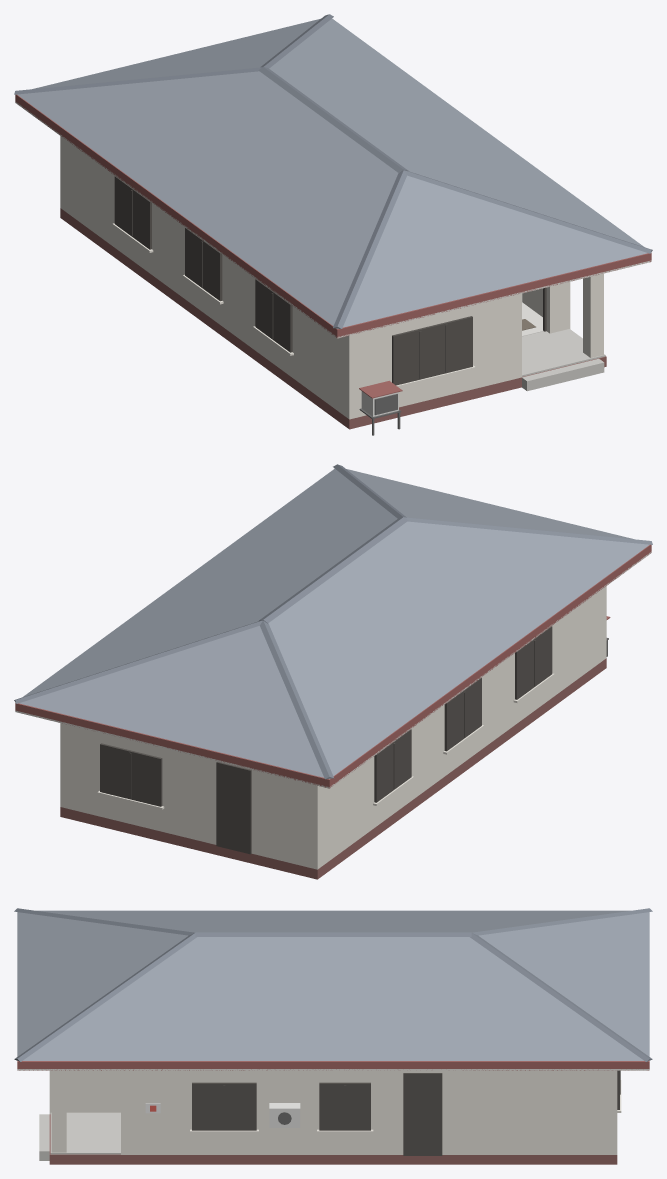
The model's file is f2c2_building.glb.
3 views of the same model, one above another, from view 1: azimuth 30°, elevation 25°; view 2: azimuth 150°, elevation 25°; view 3: azimuth 270°, elevation 25° (orthographic).
Parts seen in each view (by area): view 1: F2C2_Roof_Surface, Mesh_F2C2_WallCream, Mesh_F2C2_FrameBronze, Mesh_F2C2_FasciaMaroon, Mesh_F2C2_RoofRidge, Mesh_F2C2_PlinthMaroon, Mesh_F2C2_StoopConcrete, F2C2_Soffit_Main, Mesh_F2C2_BracketDark; view 2: F2C2_Roof_Surface, Mesh_F2C2_WallCream, Mesh_F2C2_FrameBronze, Mesh_F2C2_RoofRidge, Mesh_F2C2_FasciaMaroon, Mesh_F2C2_PlinthMaroon, F2C2_Soffit_Main; view 3: F2C2_Roof_Surface, Mesh_F2C2_WallCream, Mesh_F2C2_FrameBronze, Mesh_F2C2_RoofRidge, Mesh_F2C2_PlinthMaroon, Mesh_F2C2_FasciaMaroon, Mesh_F2C2_StoopConcrete, F2C2_Soffit_Main, Mesh_F2C2_ACMetal.
Boxes of the visible parts, <box> form: F2C2_Roof_Surface: <box>17,18,647,328</box>; Mesh_F2C2_WallCream: <box>60,136,603,419</box>; Mesh_F2C2_FrameBronze: <box>114,176,546,385</box>; Mesh_F2C2_FasciaMaroon: <box>15,94,651,398</box>; Mesh_F2C2_RoofRidge: <box>14,14,652,328</box>; Mesh_F2C2_PlinthMaroon: <box>60,208,606,429</box>; Mesh_F2C2_StoopConcrete: <box>522,329,605,391</box>; F2C2_Soffit_Main: <box>15,102,651,338</box>; Mesh_F2C2_BracketDark: <box>359,394,401,435</box>; F2C2_Roof_Surface: <box>19,468,649,778</box>; Mesh_F2C2_WallCream: <box>60,586,606,869</box>; Mesh_F2C2_FrameBronze: <box>100,626,552,854</box>; Mesh_F2C2_RoofRidge: <box>14,464,652,779</box>; Mesh_F2C2_FasciaMaroon: <box>15,544,651,788</box>; Mesh_F2C2_PlinthMaroon: <box>60,658,606,879</box>; F2C2_Soffit_Main: <box>15,551,651,788</box>; F2C2_Roof_Surface: <box>17,910,649,1060</box>; Mesh_F2C2_WallCream: <box>49,1070,621,1154</box>; Mesh_F2C2_FrameBronze: <box>192,1070,620,1155</box>; Mesh_F2C2_RoofRidge: <box>14,908,652,1061</box>; Mesh_F2C2_PlinthMaroon: <box>49,1114,617,1164</box>; Mesh_F2C2_FasciaMaroon: <box>17,1061,649,1070</box>; Mesh_F2C2_StoopConcrete: <box>39,1112,120,1160</box>; F2C2_Soffit_Main: <box>17,1069,649,1070</box>; Mesh_F2C2_ACMetal: <box>269,1103,300,1127</box>.
Bounding box in the file's own units: 8.42 × 4.37 × 14.82.
